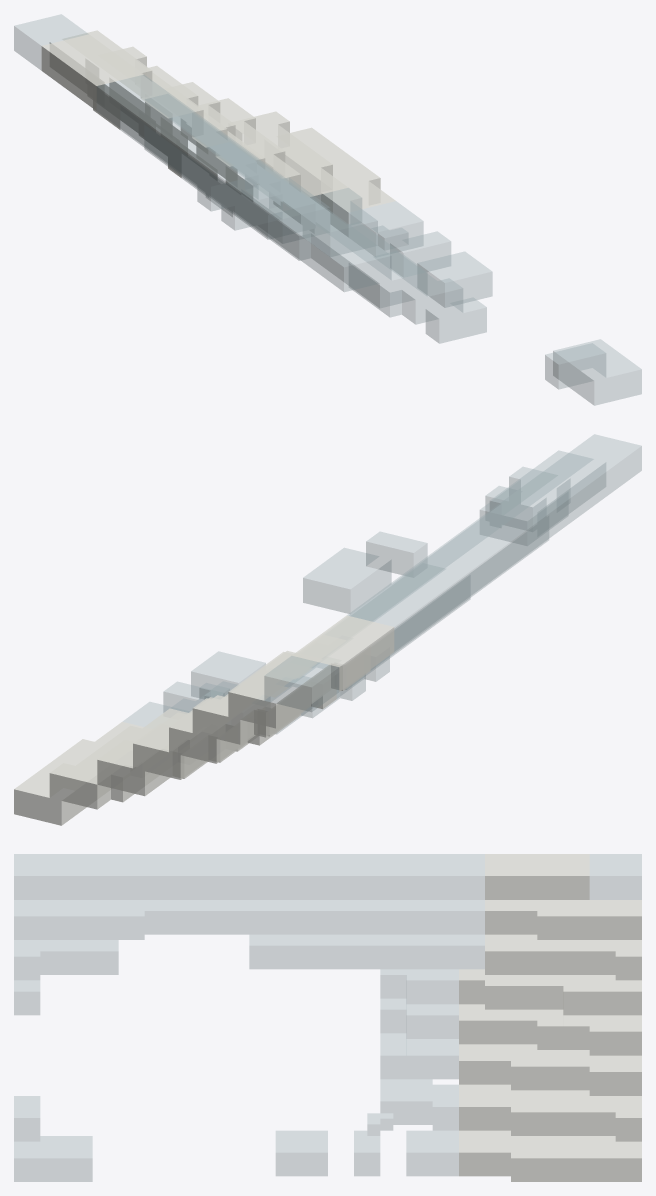
The model's file is crashed_hatchback_windscreen.glb.
The picture shows the model from 3 angles, top to bottom: view 1: azimuth 30°, elevation 25°; view 2: azimuth 150°, elevation 25°; view 3: azimuth 270°, elevation 25°; orthographic projection. The views are drawn at different scales.
Parts seen in each view (by area): view 1: body:compound; view 2: body:compound; view 3: body:compound.
Part boxes in pixels (box(x1,y1,x2,y2)): body:compound: box(14, 14, 641, 405); body:compound: box(14, 434, 641, 825); body:compound: box(14, 854, 641, 1181).
Bounding box in the file's own units: 0.7812 × 0.5 × 1.5.
